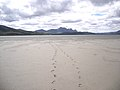human_foot_print: (56, 44, 83, 89), (60, 48, 81, 86), (50, 43, 57, 89), (51, 68, 56, 89), (76, 66, 81, 86), (76, 66, 80, 79), (51, 80, 56, 89), (51, 80, 56, 84), (53, 74, 57, 77), (78, 84, 82, 87), (72, 63, 75, 66), (78, 76, 81, 79), (51, 70, 55, 72), (54, 61, 57, 63), (78, 71, 80, 74), (52, 63, 55, 65), (76, 67, 79, 69), (54, 66, 56, 68), (53, 89, 56, 90)
